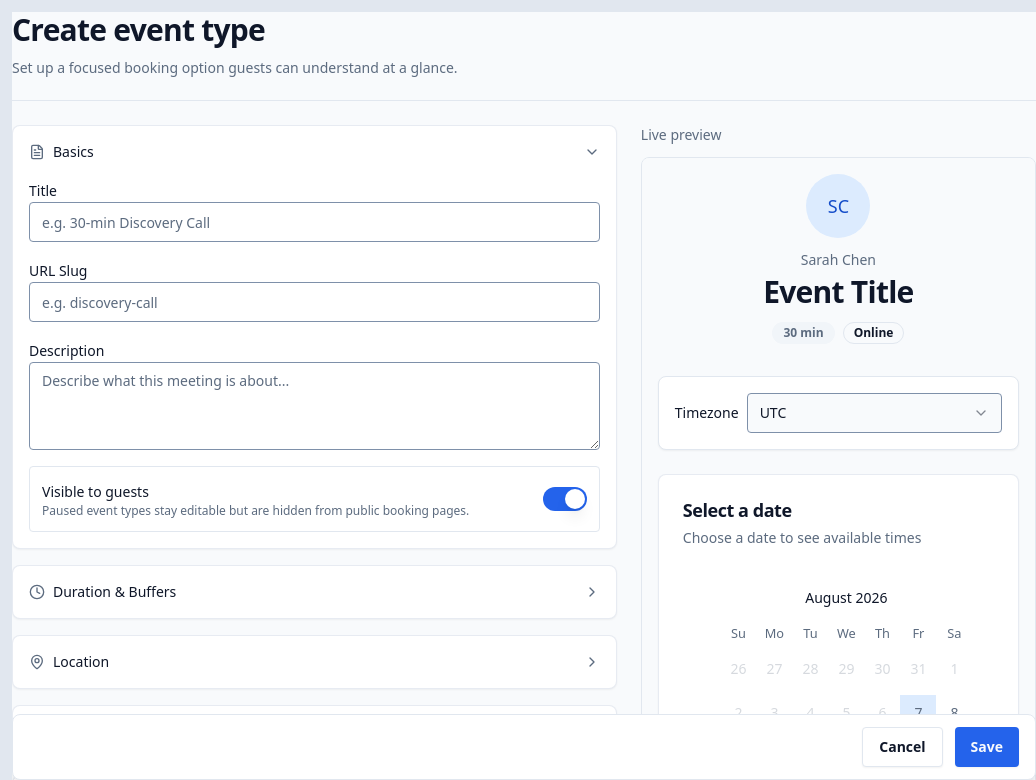
NewEventTypePage editor › clears field-level validation errors when corrected
Click the button "Save".
click(987, 747)  # box [955,727,1019,767]
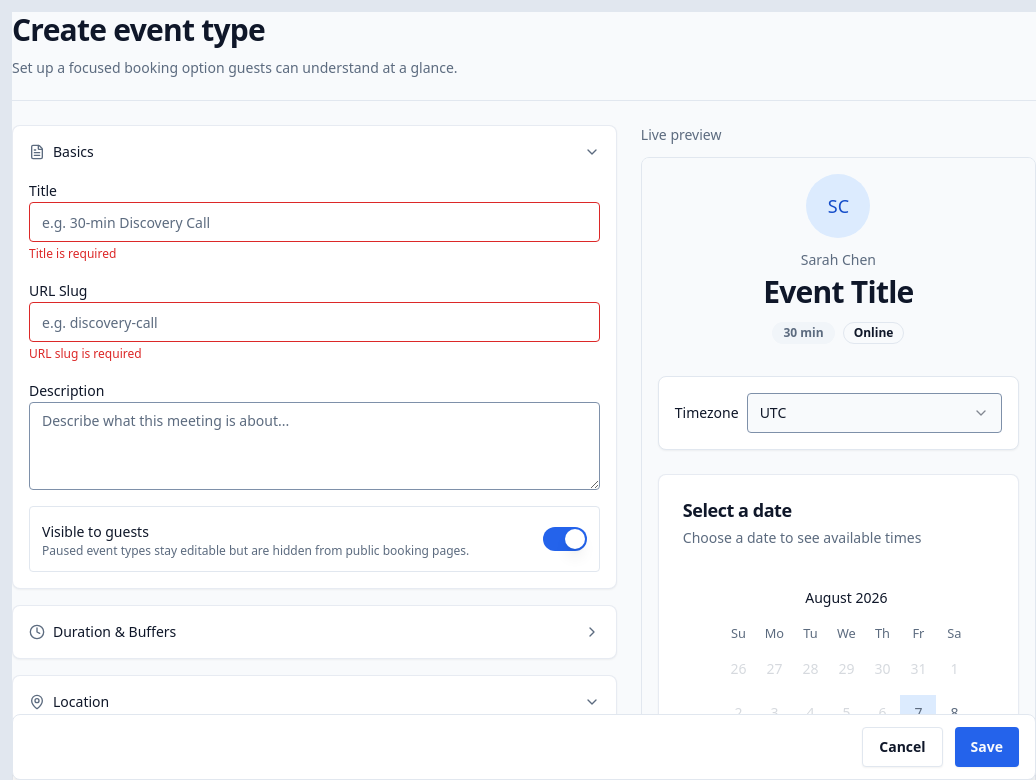
Check: the text "Title is required" is shown, box [29,245,116,262]
Check: the text "URL slug is required" is shown, box [29,345,142,362]
Type "QA Coffee Chat" into the field labelled "Title".
click(314, 222); type("QA Coffee Chat")  # box [29,202,600,242]
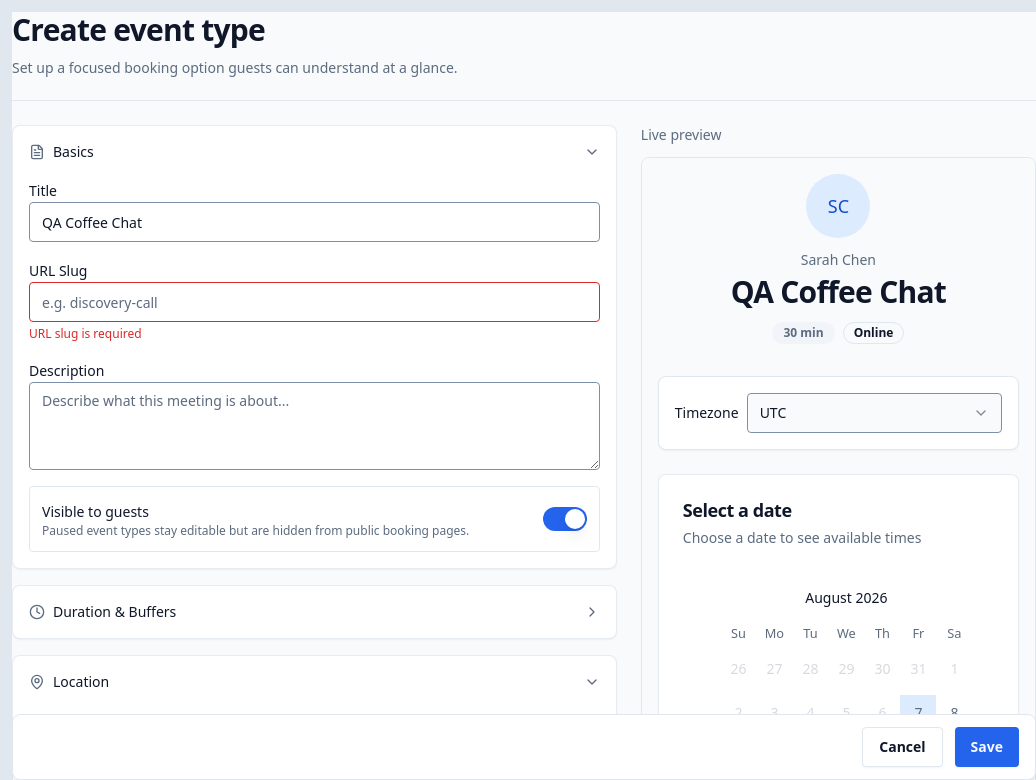
Check: the text "URL slug is required" is shown, box [29,325,142,342]
Check: the text "Title is required" is gone
Type "qa-coffee-chat" into the field labelled "URL Slug".
click(314, 302); type("qa-coffee-chat")  # box [29,282,600,322]
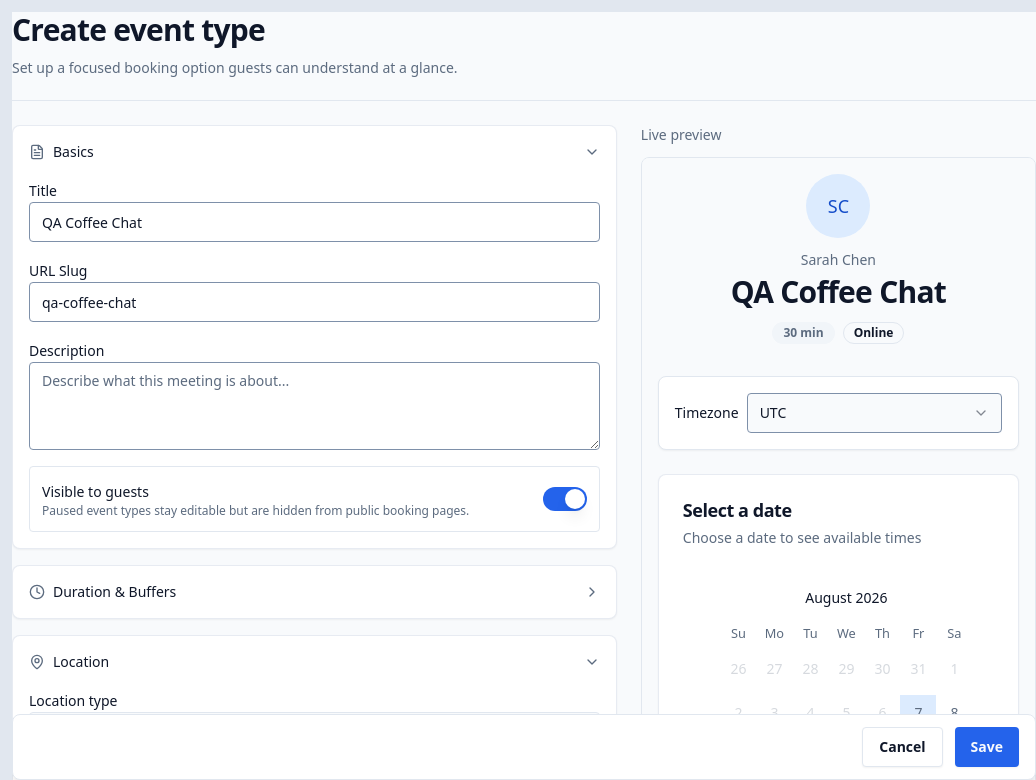
Check: the text "URL slug is required" is gone
